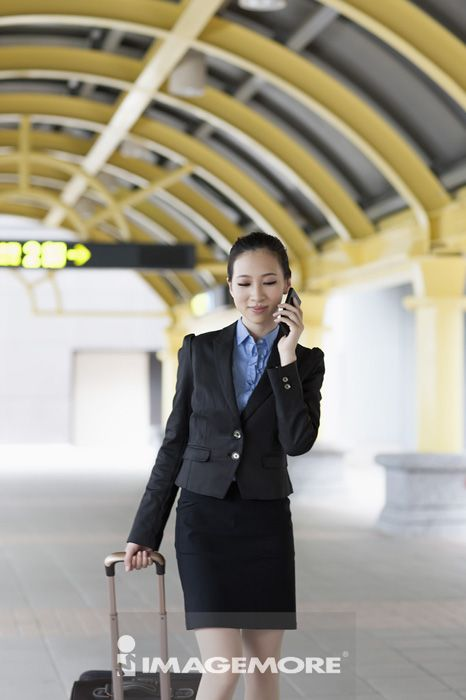phone: (280, 289, 301, 336)
talk: (235, 268, 305, 356)
